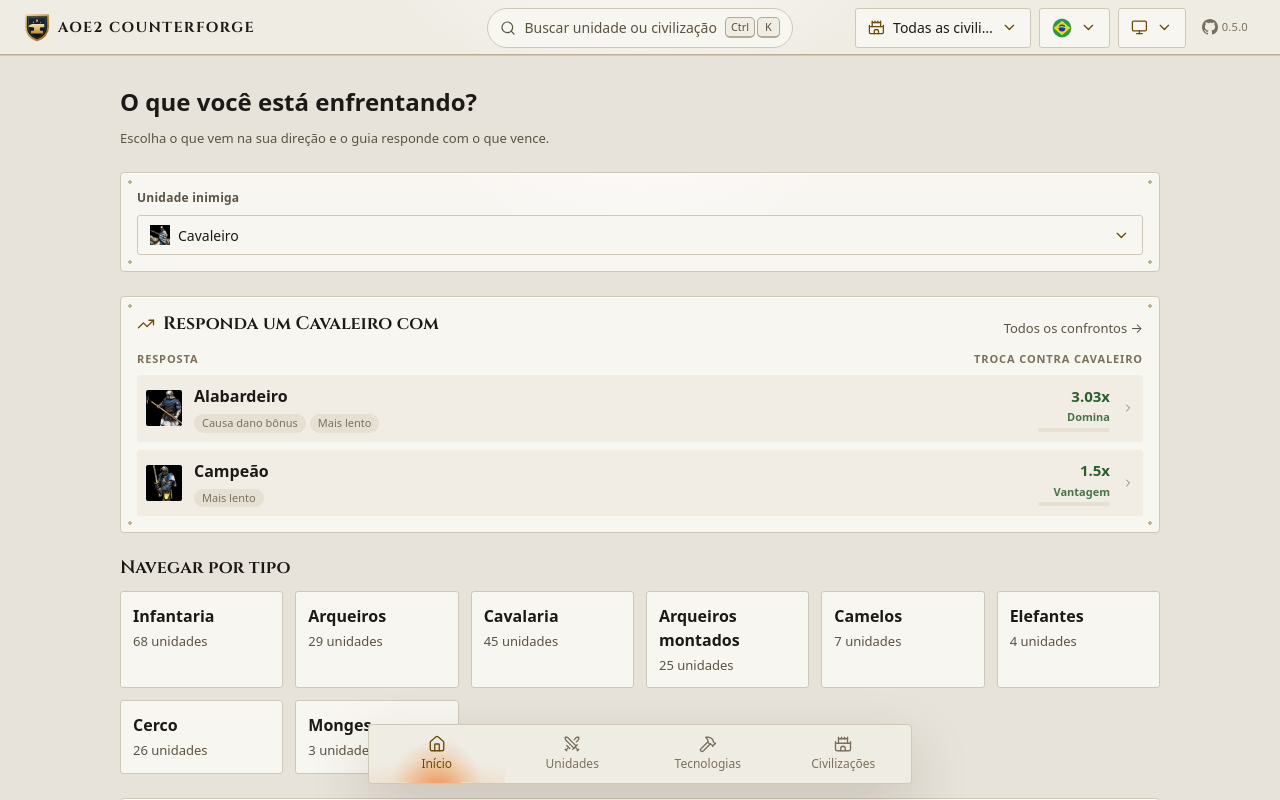
Test: App › lists the languages in alphabetical order of their names
What coordinates should you click on to do the following:
click the button named "Idioma:"
I would click on:
 (1075, 28)
Its box is [1039,8,1110,48].
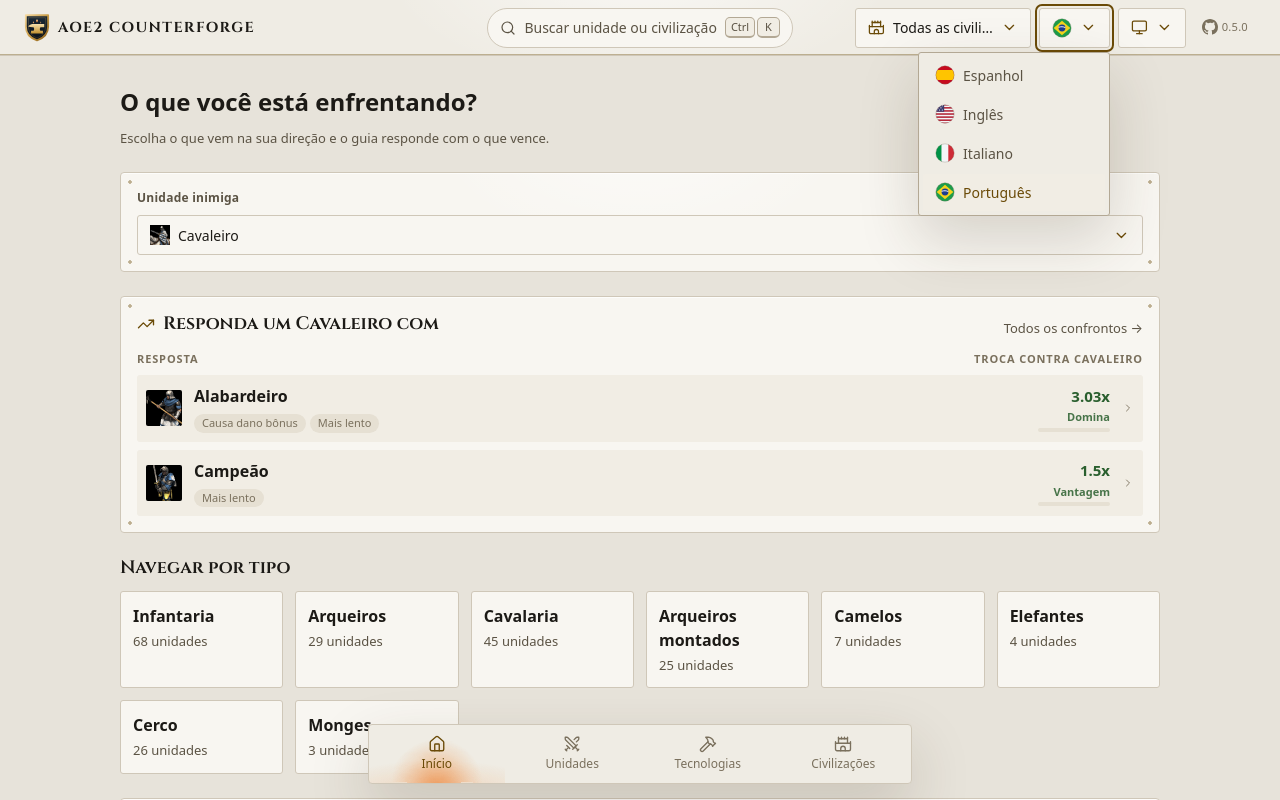
Check: the options read "Espanhol", "Inglês", "Italiano", "Português", in this order, box [923,56,1105,94]; [923,96,1105,132]; [923,134,1105,172]; [923,174,1105,210]
